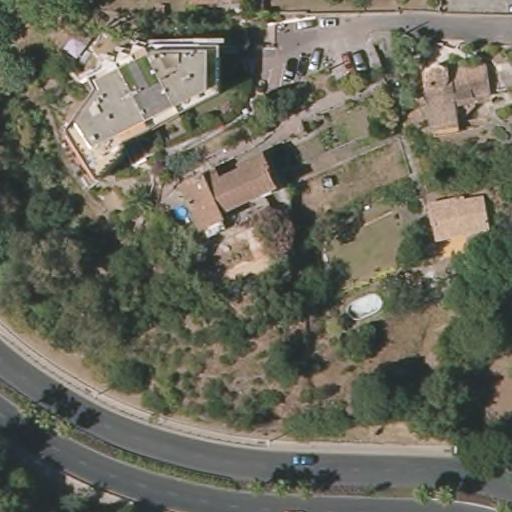pool: (177, 208, 188, 218)
